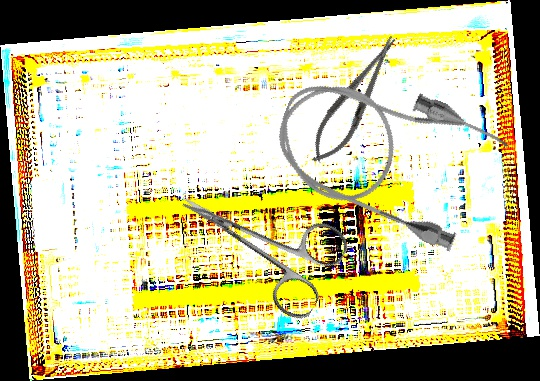Cannula: (259, 48, 514, 258)
Iris Scissors: (161, 155, 354, 325)
Needle Holder: (300, 27, 410, 173)
